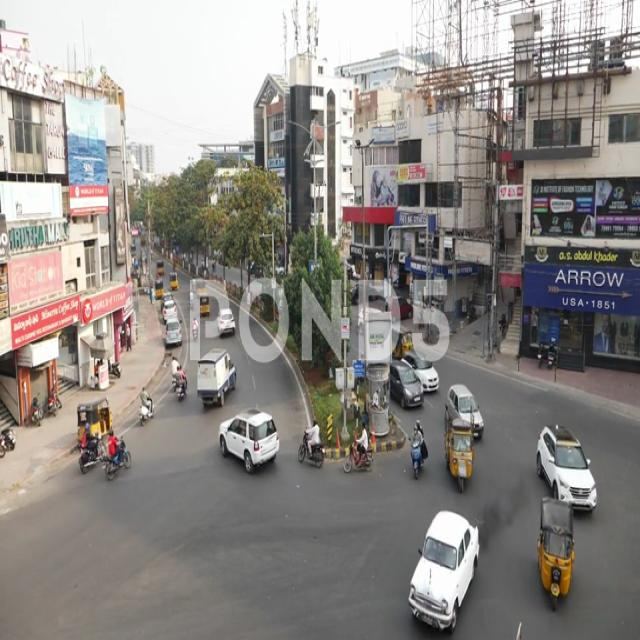cab: (408, 510, 483, 638)
car: (535, 422, 604, 514), (219, 412, 281, 476), (392, 364, 424, 413)
motorbike: (342, 425, 374, 480), (76, 424, 105, 478), (297, 420, 325, 472), (409, 420, 427, 480)
rikshaw: (541, 501, 573, 612)
truck: (446, 407, 476, 492)
